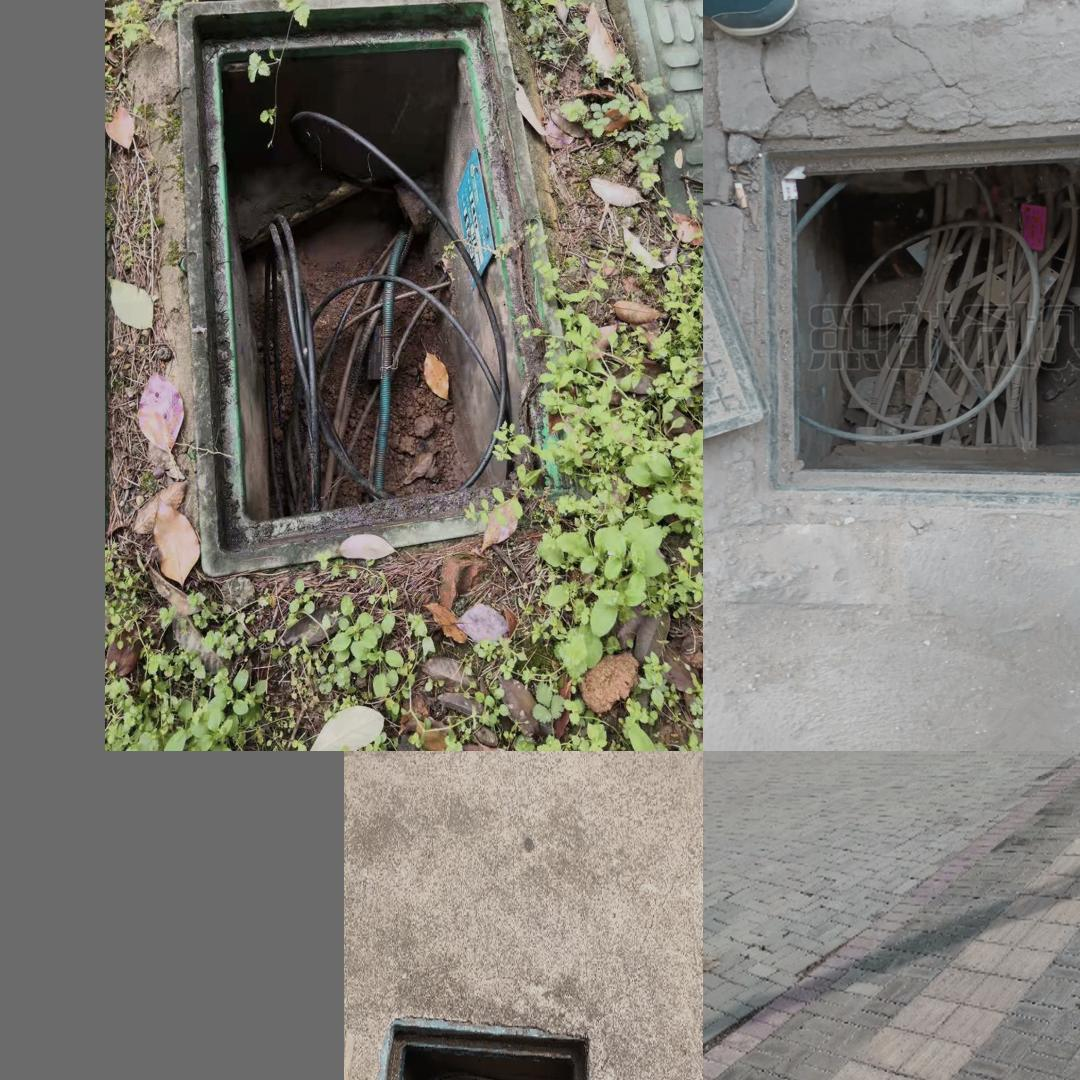lose: (178, 0, 577, 573), (756, 122, 1080, 512), (345, 1017, 601, 1080)
